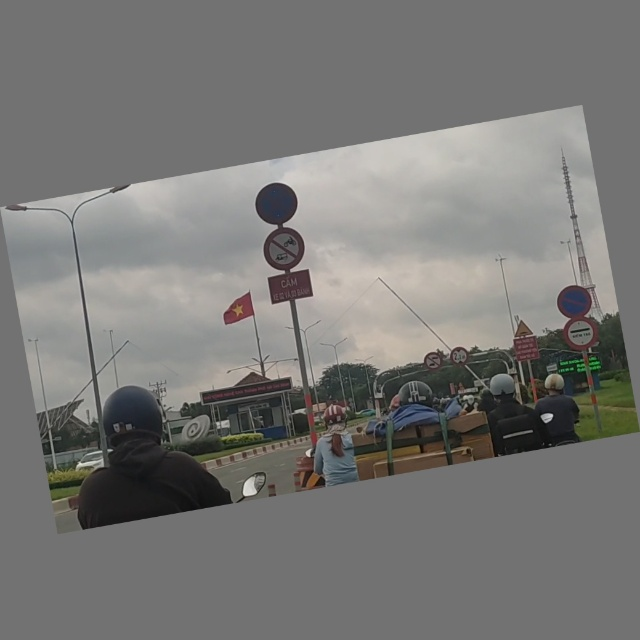P.107: (422, 352, 444, 372)
P.111: (261, 225, 309, 273)
P.117*: (448, 346, 471, 369)
P.129: (562, 318, 600, 353)
P.130: (253, 181, 301, 228)
P.131a: (553, 283, 594, 321)
W.221b: (511, 319, 535, 339)
